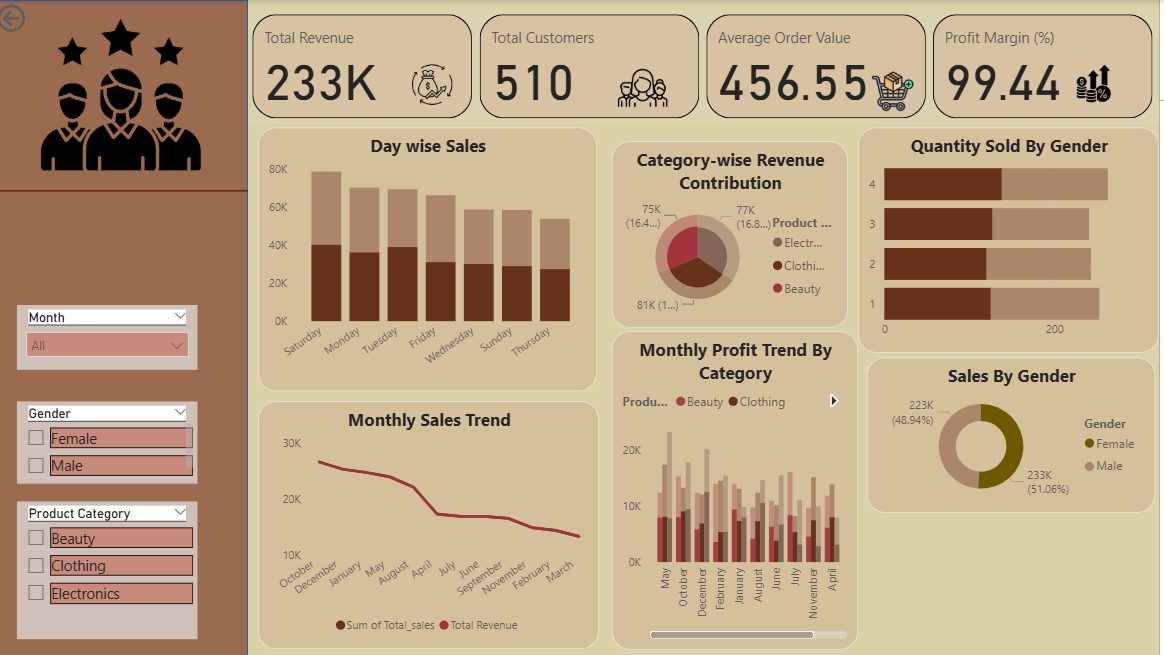

This screenshot's page, from the dashboard's own definition file:
{"tool":"powerbi","page":{"name":"Page 1","canvas":[1280,720],"ordinal":0},"visuals":[{"type":"shape","box":[0,0,279.7,719.3],"z":0},{"type":"image","box":[25.7,11.4,228.6,185.7],"z":1000},{"type":"shape","box":[0,176.7,279.7,44.5],"z":2000},{"type":"slicer","fields":{"Values":["retail_sales_dataset.Product Category"]},"box":[25.7,550,198.6,151.4],"z":3000},{"type":"slicer","fields":{"Values":["retail_sales_dataset.Month"]},"box":[25.7,334.3,198.6,71.4],"z":4000},{"type":"slicer","fields":{"Values":["retail_sales_dataset.Gender"]},"box":[25.7,440,198.6,90],"z":5000},{"type":"cardVisual","fields":{"Data":["retail_sales_dataset.Total Revenue","retail_sales_dataset.Total Customers","retail_sales_dataset.Average Order Value","retail_sales_dataset.Profit Margin (%)"]},"box":[279.9,11,1000.3,124.9],"z":6000},{"type":"image","box":[662.9,64.3,100,64.3],"z":7000},{"type":"image","box":[958.6,64.3,57.1,71.4],"z":8000},{"type":"image","box":[1191,68.2,69.6,54.3],"z":9000},{"type":"image","box":[447.1,64.3,70,57.1],"z":10000},{"type":"lineChart","title":"Monthly Sales Trend","fields":{"Category":["retail_sales_dataset.Month"],"Y":["Sum(retail_sales_dataset.Total_sales)","retail_sales_dataset.Total Revenue"]},"box":[290.8,420.2,471.7,293.6],"z":11000},{"type":"clusteredColumnChart","title":"Monthly Profit Trend By Category","fields":{"Category":["retail_sales_dataset.Month"],"Y":["Sum(retail_sales_dataset.Profit)"],"Series":["retail_sales_dataset.Product Category"]},"box":[770.8,420.2,500.9,293.6],"z":12000},{"type":"donutChart","title":"Sales By Gender","fields":{"Category":["retail_sales_dataset.Gender"],"Y":["Sum(retail_sales_dataset.Total_sales)"]},"box":[665,147.5,253.2,257.4],"z":13000},{"type":"columnChart","title":"Day wise Sales","fields":{"Category":["retail_sales_dataset.Day Name"],"Y":["Sum(retail_sales_dataset.Total_sales)"]},"box":[290.8,140.5,371.5,264.3],"z":14000},{"type":"barChart","title":" Quantity Sold By Gender ","fields":{"Y":["CountNonNull(retail_sales_dataset.Gender)"],"Category":["retail_sales_dataset.Quantity"]},"box":[918.3,140.5,354.8,268.5],"z":15000},{"type":"textbox","box":[12.5,221.2,253.2,54.3],"z":16000},{"type":"pageNavigator","box":[12.5,285.2,253.2,40.3],"z":17000}]}

Visuals, with their boxes in screenshot pixels (x1, y1, x2, y2), scaled from the page's 1280x720 canvas onto the 1164x655 screenshot:
shape: detection(0, 0, 254, 654)
image: detection(23, 10, 231, 179)
shape: detection(0, 161, 254, 201)
slicer - retail_sales_dataset.Product Category: detection(23, 500, 204, 638)
slicer - retail_sales_dataset.Month: detection(23, 304, 204, 369)
slicer - retail_sales_dataset.Gender: detection(23, 400, 204, 482)
cardVisual - retail_sales_dataset.Total Revenue x retail_sales_dataset.Total Customers: detection(255, 10, 1163, 124)
image: detection(603, 58, 694, 117)
image: detection(872, 58, 924, 123)
image: detection(1083, 62, 1146, 111)
image: detection(407, 58, 470, 110)
"Monthly Sales Trend" lineChart: detection(264, 382, 693, 649)
"Monthly Profit Trend By Category" clusteredColumnChart: detection(701, 382, 1156, 649)
"Sales By Gender" donutChart: detection(605, 134, 835, 368)
"Day wise Sales" columnChart: detection(264, 128, 602, 368)
" Quantity Sold By Gender " barChart: detection(835, 128, 1158, 372)
textbox: detection(11, 201, 242, 251)
pageNavigator: detection(11, 259, 242, 296)
